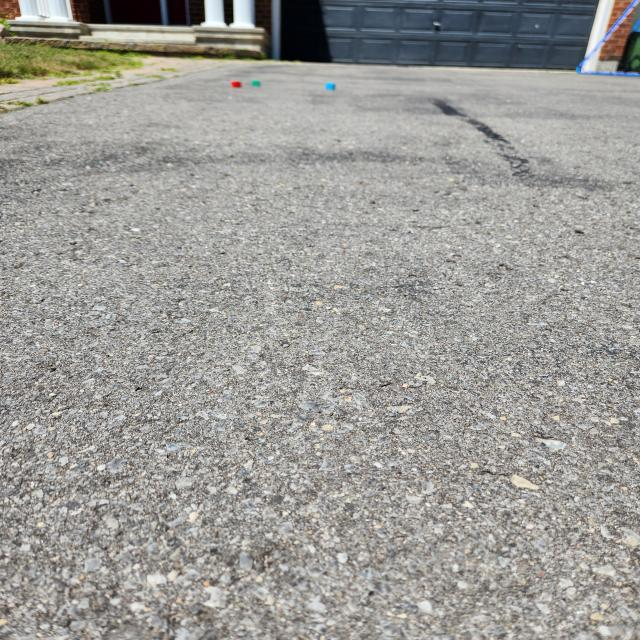bluecube: (325, 82, 335, 91)
green cube: (252, 80, 260, 87)
red cube: (232, 81, 242, 88)
